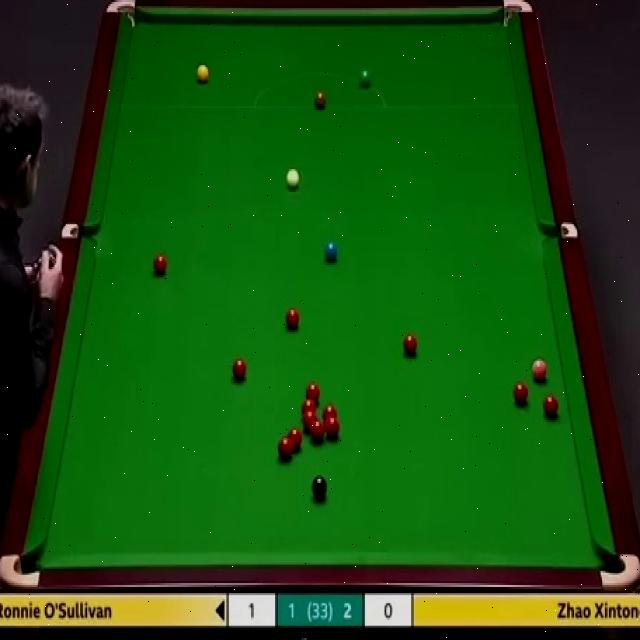black-ball: (310, 475, 328, 497)
blue-ball: (323, 240, 340, 263)
brown-ball: (313, 90, 326, 110)
green-ball: (360, 66, 371, 88)
pink-ball: (530, 358, 549, 382)
red-ball: (513, 379, 529, 406), (542, 393, 559, 417), (278, 435, 294, 460), (401, 332, 418, 355), (285, 306, 300, 331), (326, 414, 340, 440), (288, 427, 302, 451), (305, 382, 320, 404), (152, 254, 167, 276), (310, 419, 324, 442), (232, 357, 246, 379), (303, 410, 317, 431), (300, 399, 316, 416), (322, 402, 339, 418)
white-ball: (285, 168, 300, 190)
yellow-ball: (196, 64, 209, 85)
